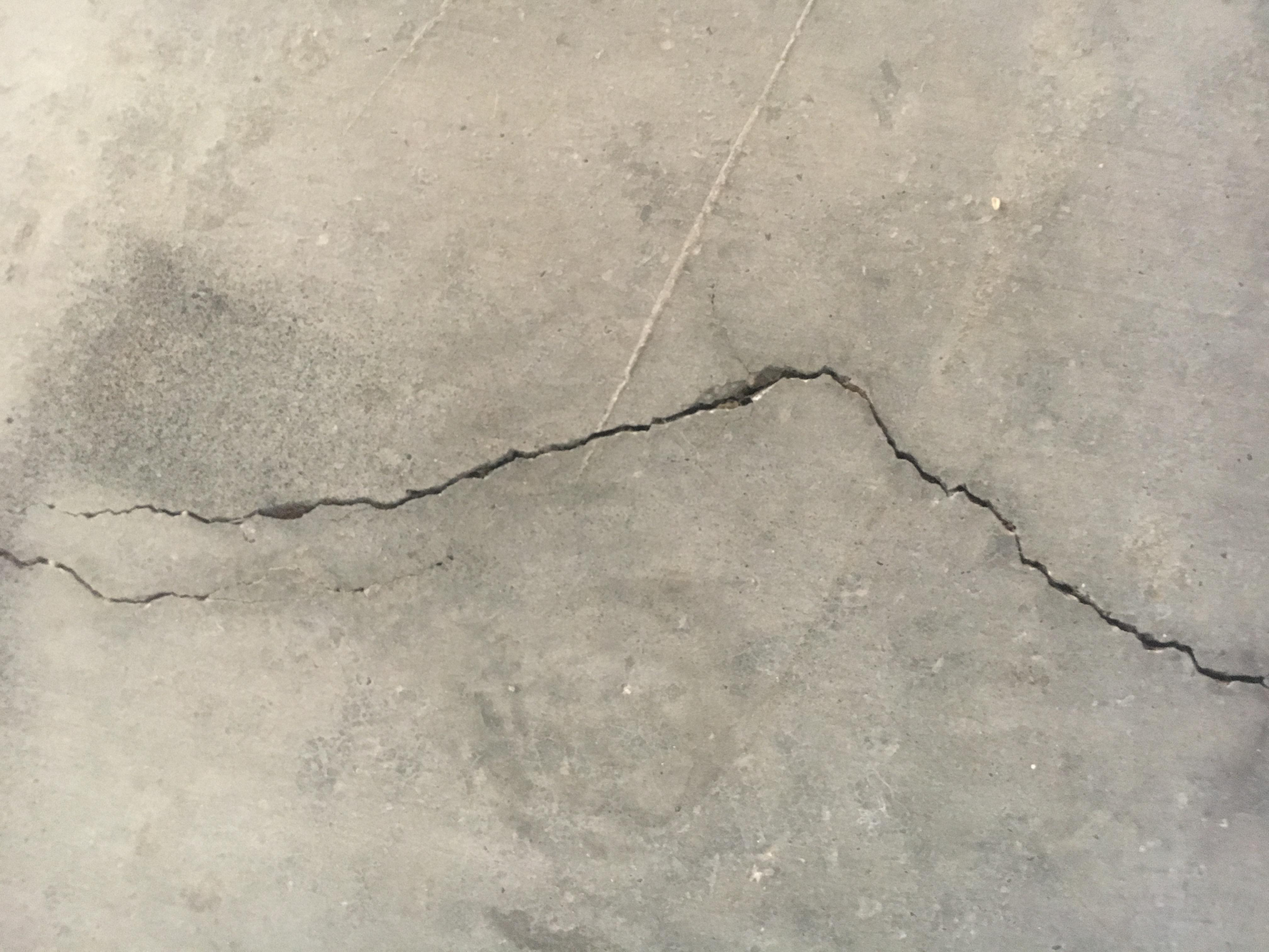Structural-Crack: (3, 360, 1265, 693)
